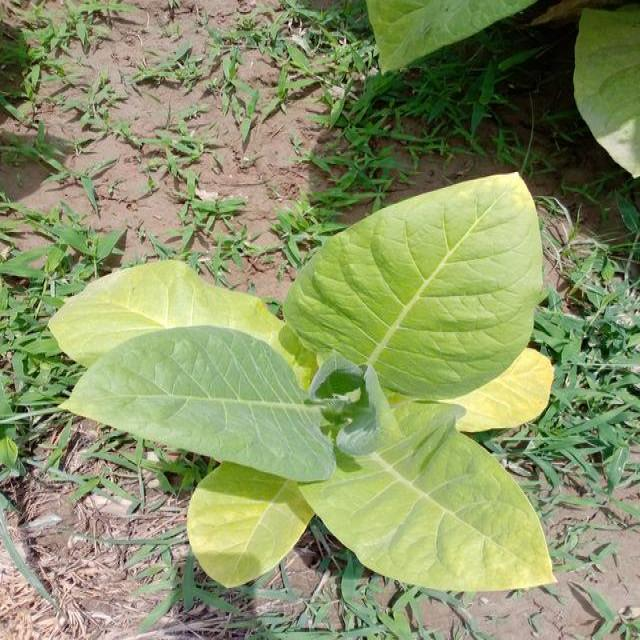crop: (72, 188, 578, 618), (390, 0, 556, 70), (598, 5, 640, 171)
